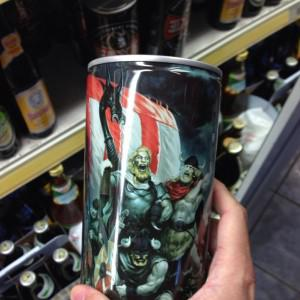beer: (81, 54, 218, 300)
